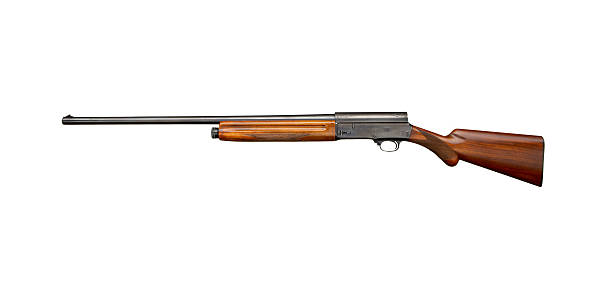shotgun: (58, 105, 548, 196)
